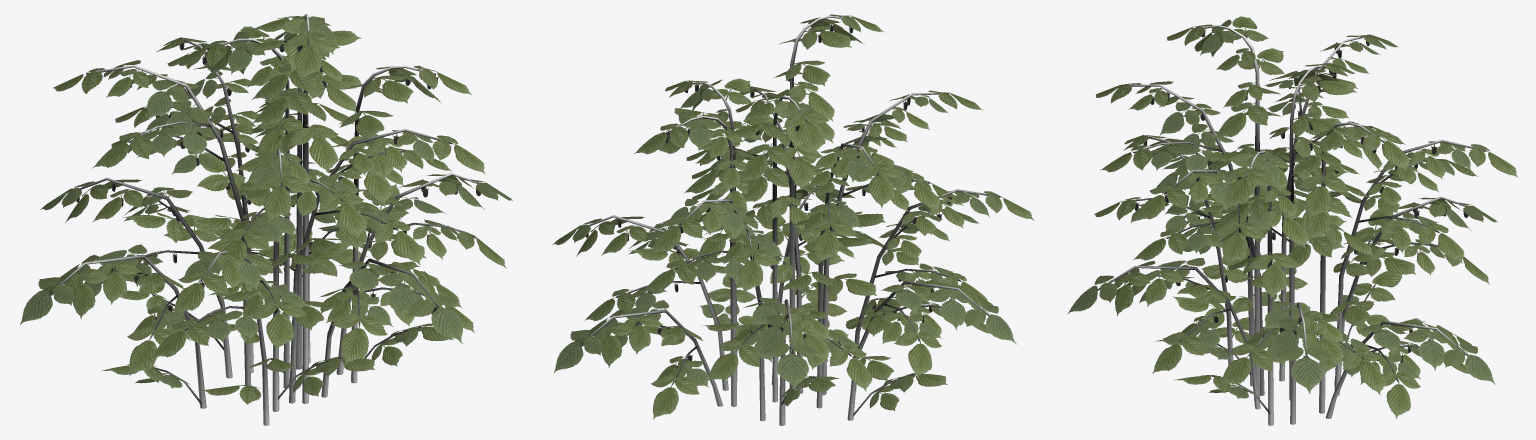
File: PW_Plants_Berry_Bushes_03.fbx
The picture shows the model from 3 angles, left to right: view 1: azimuth 30°, elevation 25°; view 2: azimuth 150°, elevation 25°; view 3: azimuth 270°, elevation 25°; orthographic projection. The views are drawn at different scales.
Visible parts, largest first — view 1: PW_Plants_Berry_Bushes_03_LOD0; view 2: PW_Plants_Berry_Bushes_03_LOD0; view 3: PW_Plants_Berry_Bushes_03_LOD0.
Boxes of the visible parts, x1,y1,x2,y2 form: PW_Plants_Berry_Bushes_03_LOD0: (20,14,512,425); PW_Plants_Berry_Bushes_03_LOD0: (552,14,1034,425); PW_Plants_Berry_Bushes_03_LOD0: (1067,16,1518,425).
Size of what is drawn, in the model's own units: 168 by 127 by 143.
Materials: 2 (1 with a texture image).
